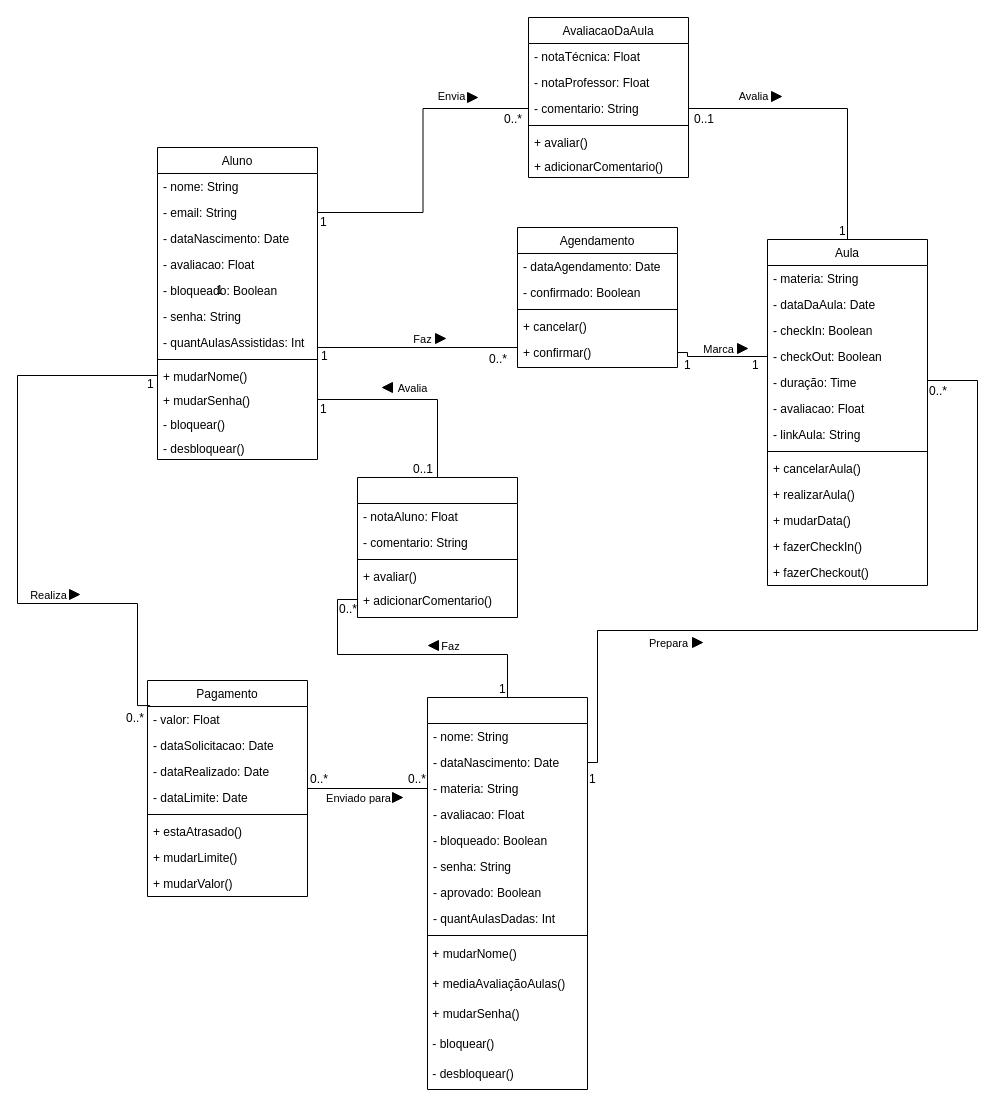
The diagram is 996 pixels wide and 1107 high, and some of its shapes have lost their labels. The box of each missing label's shape, as (x1, y1, x2, y2) in pixels:
AvaliacaoDoAluno: (356, 476, 518, 618)
Professor: (426, 696, 588, 1090)
